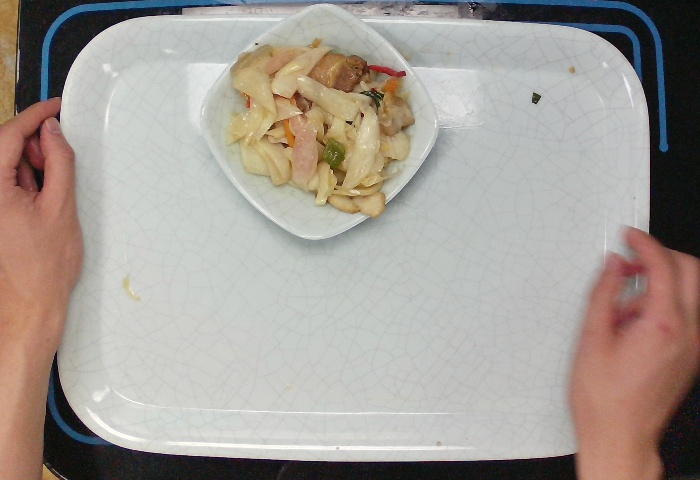WCQzf-Da_Si_Fang_Die: (194, 2, 442, 239)
